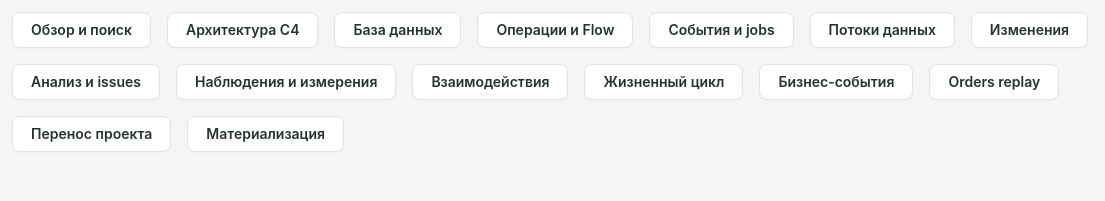
explains unavailable views without changing revision
Click the button "Потоки данных". click: coordinates (882, 30)
box: top-left (810, 12), bottom-right (955, 48)
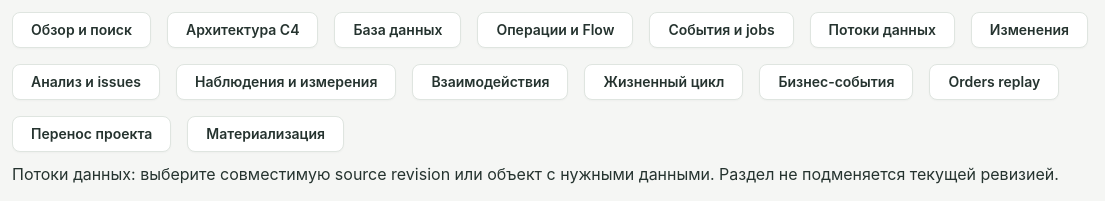
Check: the message shows "не подменяется текущей ревизией", box top-left (12, 164), bottom-right (1059, 184)
